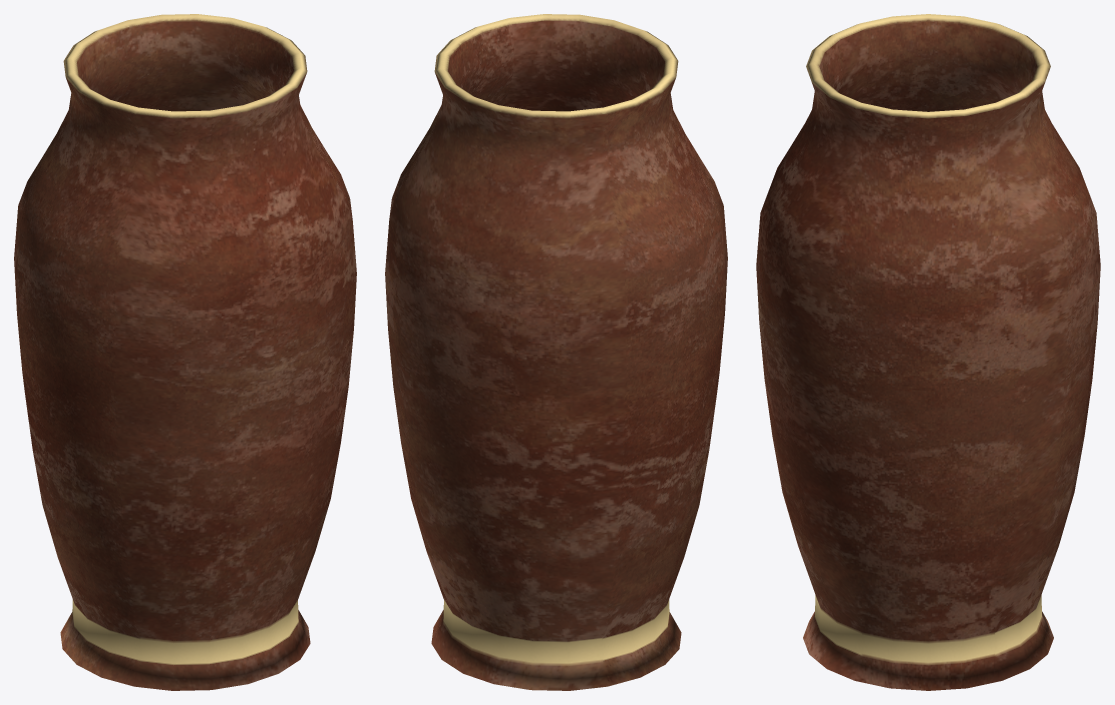
The model's file is Tubo4.fbx.
The picture shows the model from 3 angles, left to right: view 1: azimuth 30°, elevation 25°; view 2: azimuth 150°, elevation 25°; view 3: azimuth 270°, elevation 25°; orthographic projection.
Parts seen in each view (by area): view 1: pSphere1; view 2: pSphere1; view 3: pSphere1.
Boxes of the visible parts, box(x1,y1,x2,y2) form: pSphere1: box(14, 14, 356, 690); pSphere1: box(385, 14, 727, 690); pSphere1: box(756, 14, 1100, 690).
Size of the model in its own units: 21.14 by 38.92 by 21.14.
